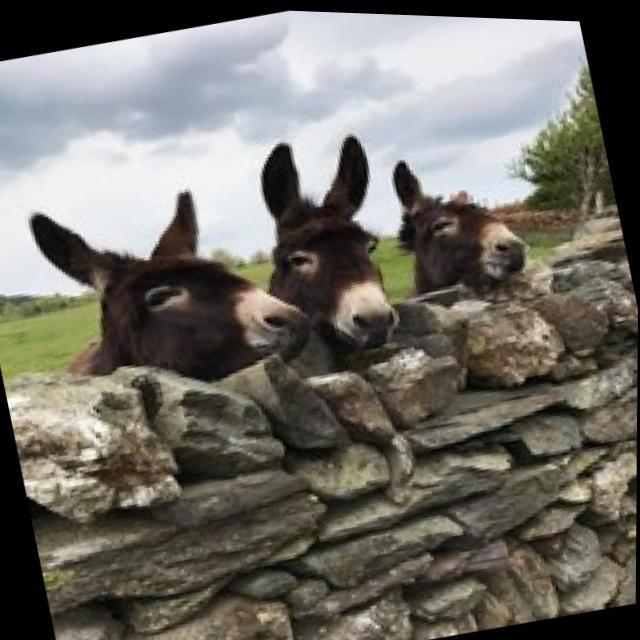Donkey: (23, 156, 320, 412), (236, 120, 405, 366), (378, 131, 535, 305)
